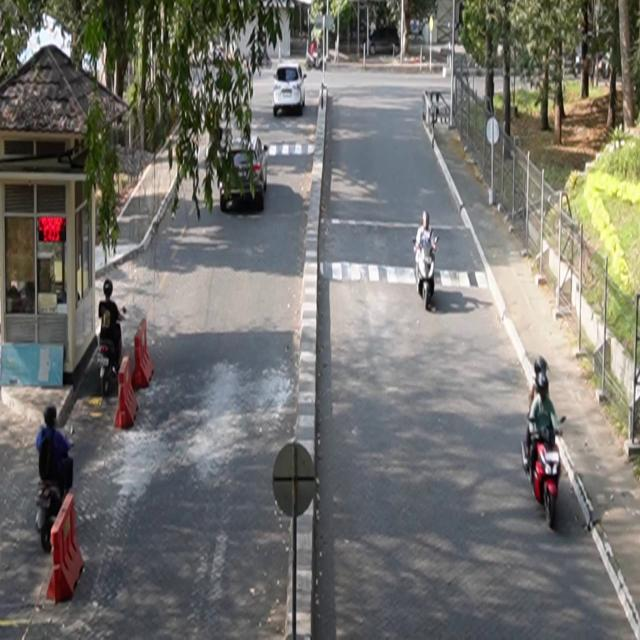car: (220, 135, 270, 214), (273, 63, 308, 117)
